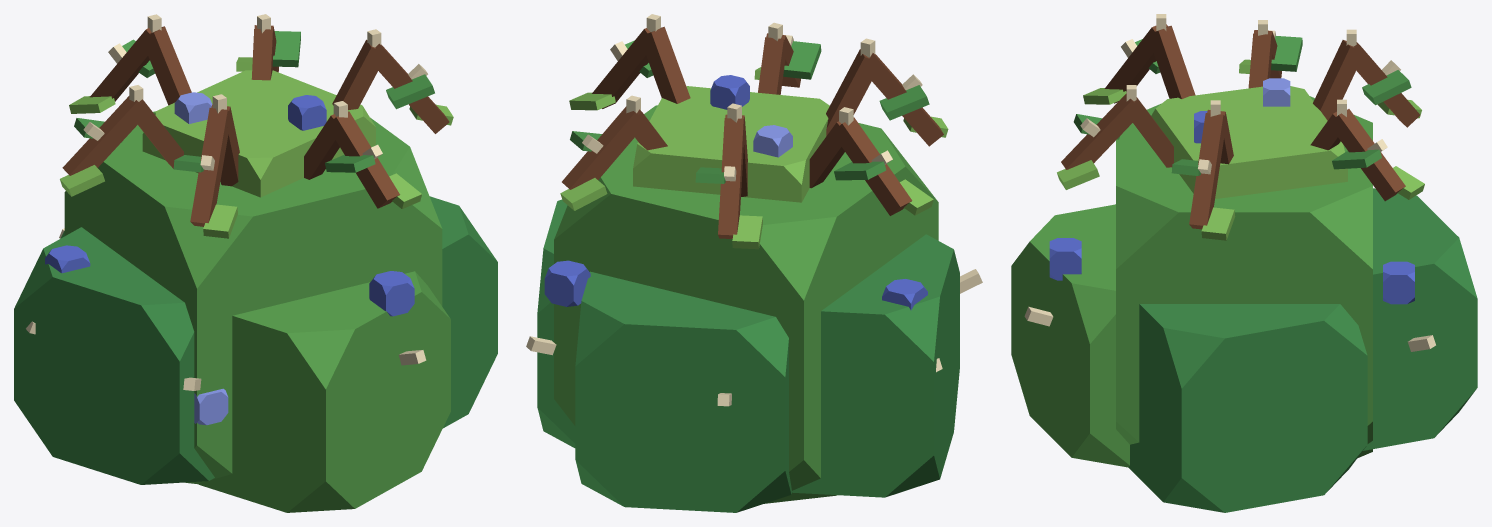
File: thorn-bush-pixor-blocky.glb
The picture shows the model from 3 angles, left to right: view 1: azimuth 30°, elevation 25°; view 2: azimuth 150°, elevation 25°; view 3: azimuth 270°, elevation 25°; orthographic projection. The views are drawn at different scales.
Visible parts, largest first — view 1: Thorn bush core, Thorn canes, Thorn leaves, Thorn berries, Thorns; view 2: Thorn bush core, Thorn canes, Thorn leaves, Thorn berries, Thorns; view 3: Thorn bush core, Thorn canes, Thorn leaves, Thorn berries, Thorns.
Boxes of the visible parts, x1,y1,x2,y2 form: Thorn bush core: (14, 70, 497, 512); Thorn canes: (62, 25, 449, 226); Thorn leaves: (60, 31, 453, 238); Thorn berries: (45, 92, 414, 425); Thorns: (26, 14, 427, 390); Thorn bush core: (537, 86, 959, 512); Thorn canes: (562, 26, 943, 238); Thorn leaves: (560, 40, 948, 249); Thorn berries: (544, 75, 927, 310); Thorns: (526, 14, 982, 406); Thorn bush core: (1011, 86, 1477, 512); Thorn canes: (1061, 24, 1420, 229); Thorn leaves: (1057, 36, 1424, 240); Thorn berries: (1049, 78, 1414, 304); Thorns: (1024, 14, 1435, 351).
Bounding box in the file's own units: 1.04 × 0.885 × 1.02.
1 material, 1 textured.
